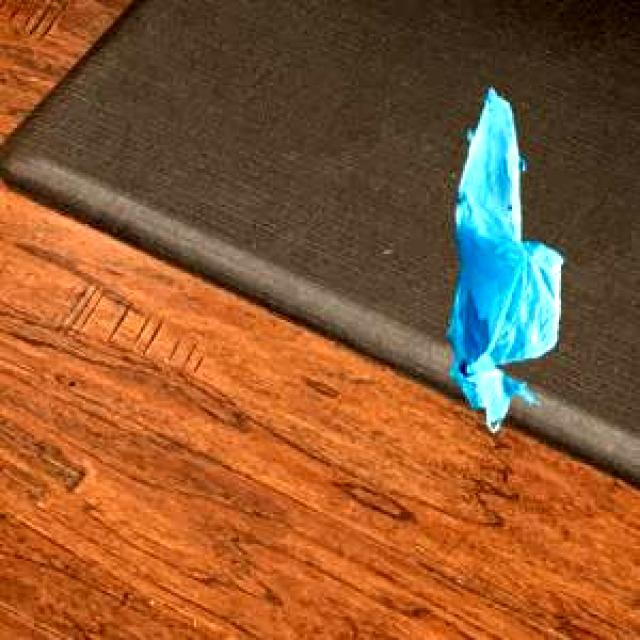Plastic_Bag: (445, 86, 560, 430)
